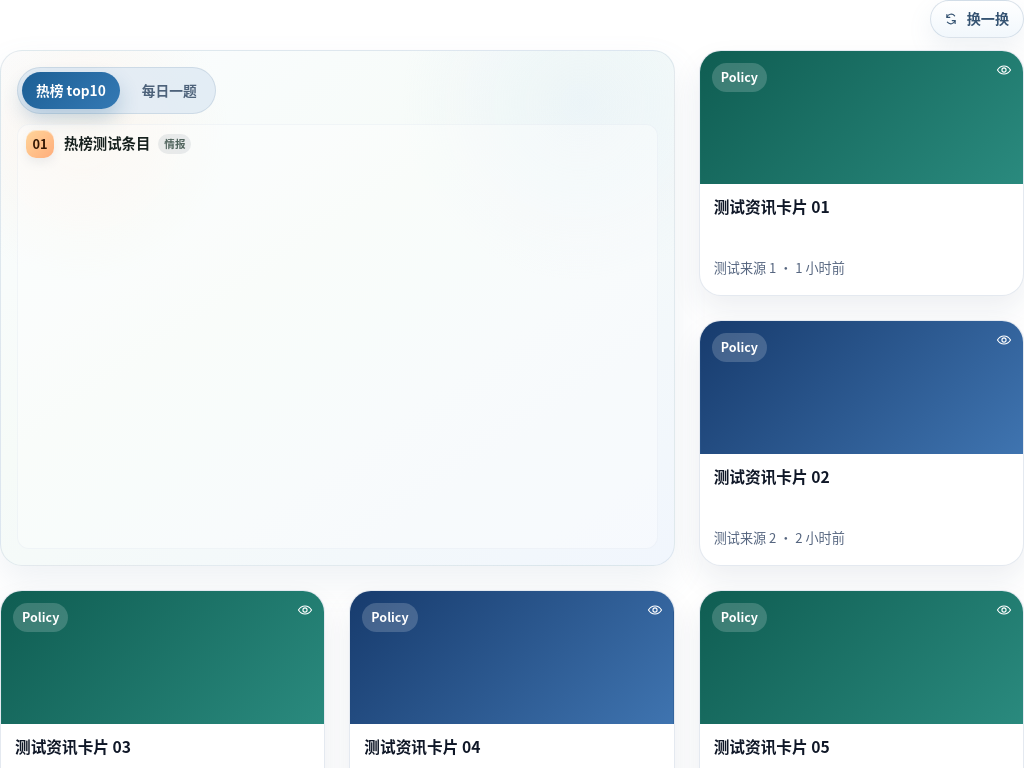
HomeIntelligenceSection › rotates homepage intelligence cards in batches
The width and height of the screenshot is (1024, 768).
Click the button with aria-label "换一换首页情报卡片" at (977, 19), box [930,0,1023,38]
(page scrolled)
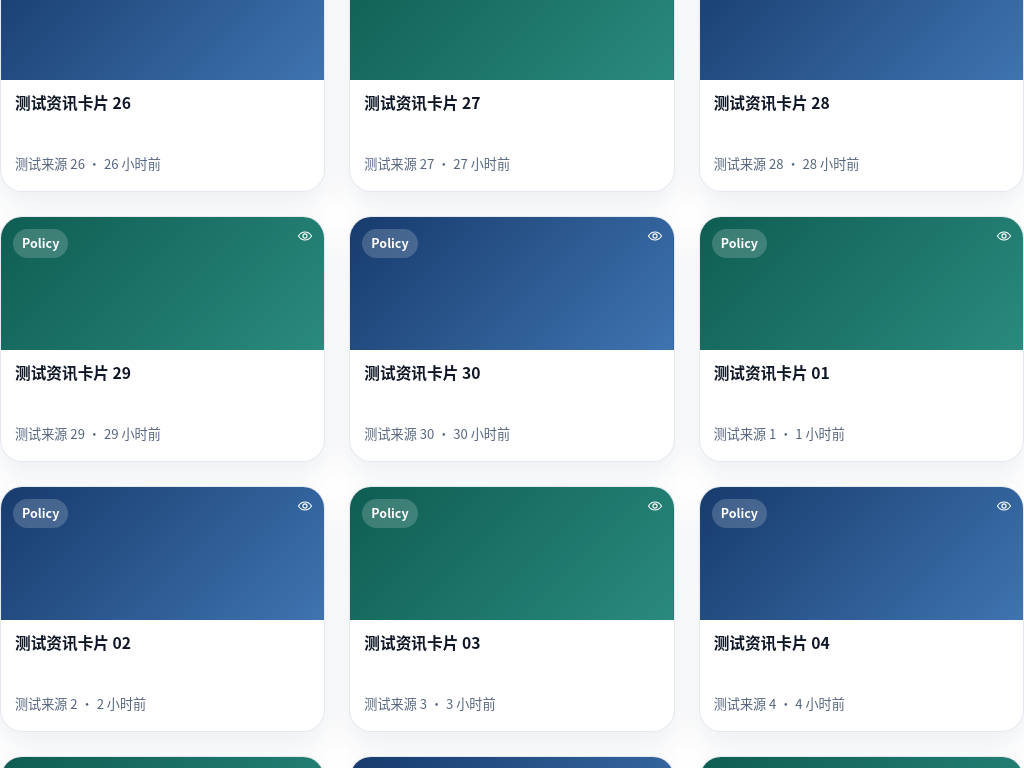
Now the text "测试资讯卡片 08" is not shown
Now the text "测试资讯卡片 30" is shown, box [364,361,480,384]
